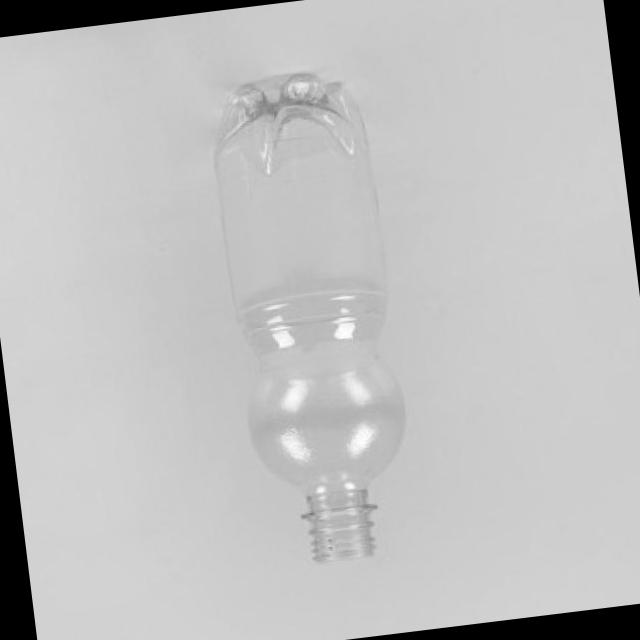plastic_bottle: (205, 66, 422, 570)
